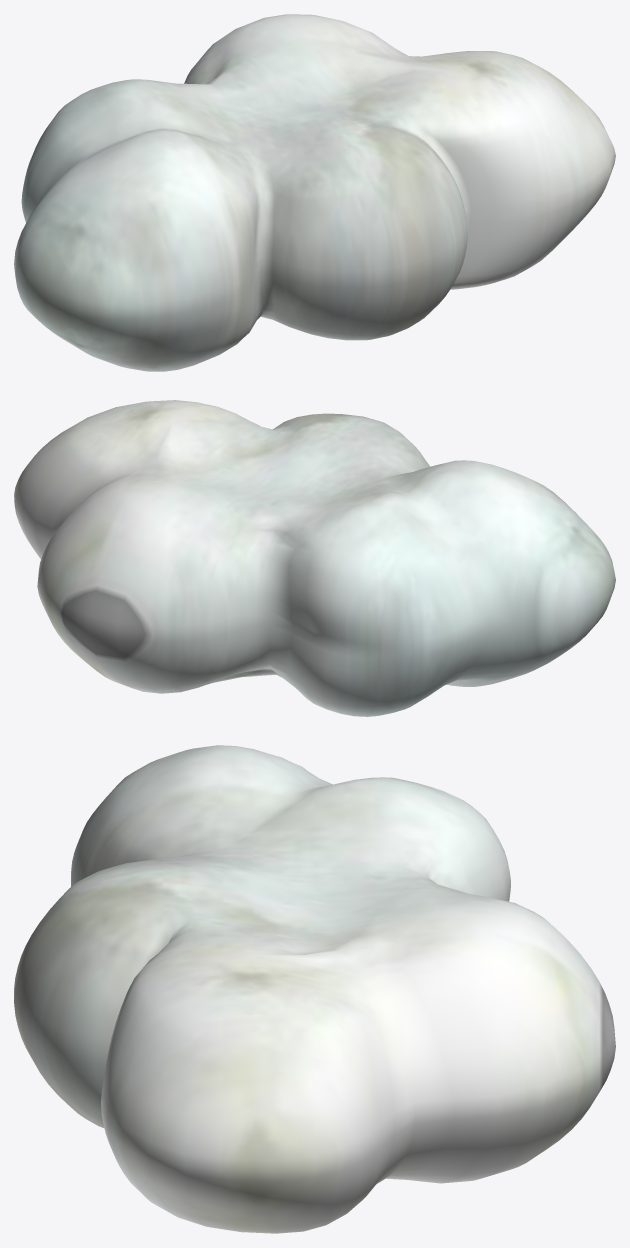
File: YUN.FBX
3 renders of one model, top to bottom at view 1: azimuth 30°, elevation 25°; view 2: azimuth 150°, elevation 25°; view 3: azimuth 270°, elevation 25°, orthographic. The views are drawn at different scales.
Parts seen in each view (by area): view 1: Line001; view 2: Line001; view 3: Line001.
Part boxes in pixels (left/top/right/bottom): Line001: left=14, top=14, right=615, bottom=371; Line001: left=14, top=400, right=615, bottom=716; Line001: left=14, top=745, right=615, bottom=1233.
Bounding box in the file's own units: 26.92 × 9.73 × 19.06.
1 material, 1 textured.
